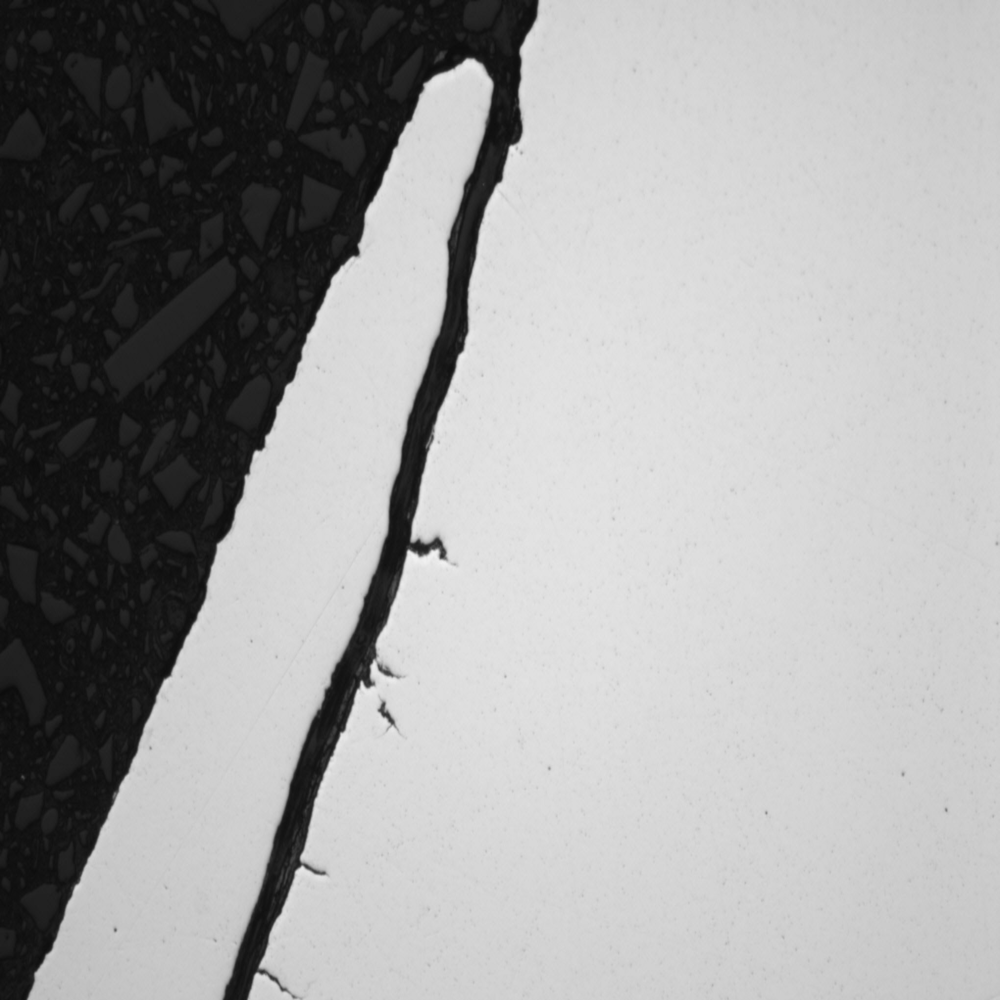crack: (201, 24, 562, 1000)
